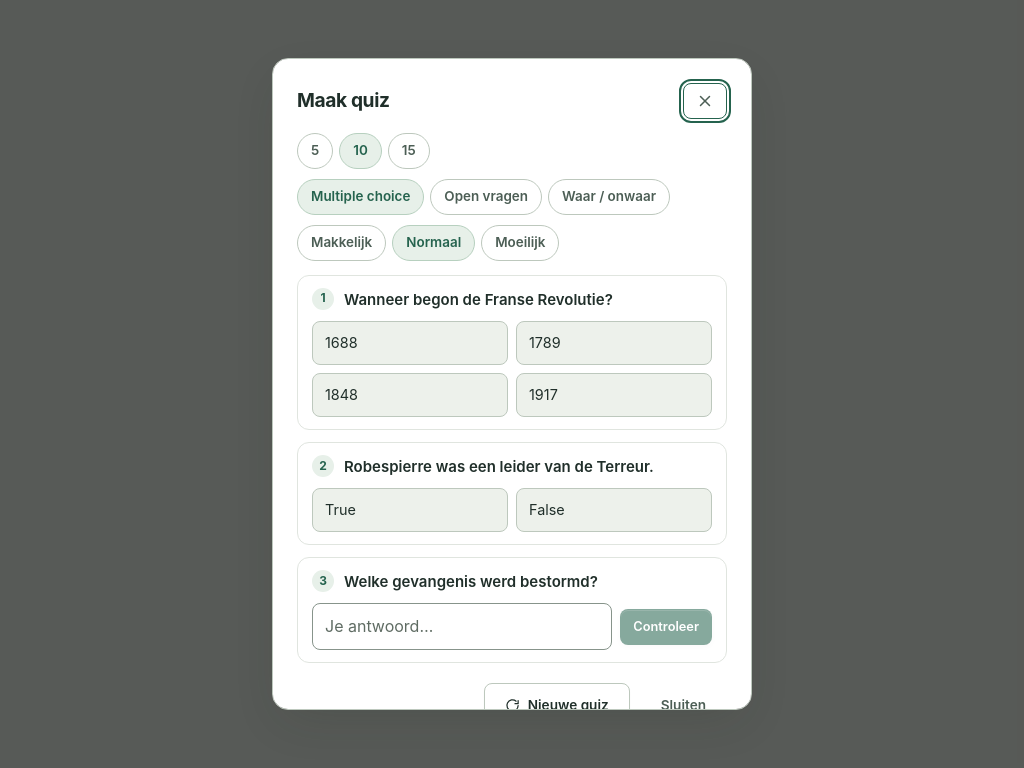
it: AiQuizModal › marks a wrong multiple choice answer
The image size is (1024, 768).
expect the text "Wanneer begon de Franse Revolutie?" is shown: met, box [344, 290, 613, 309]
Click the button "1917". click: (614,395)
box: [516, 373, 712, 417]
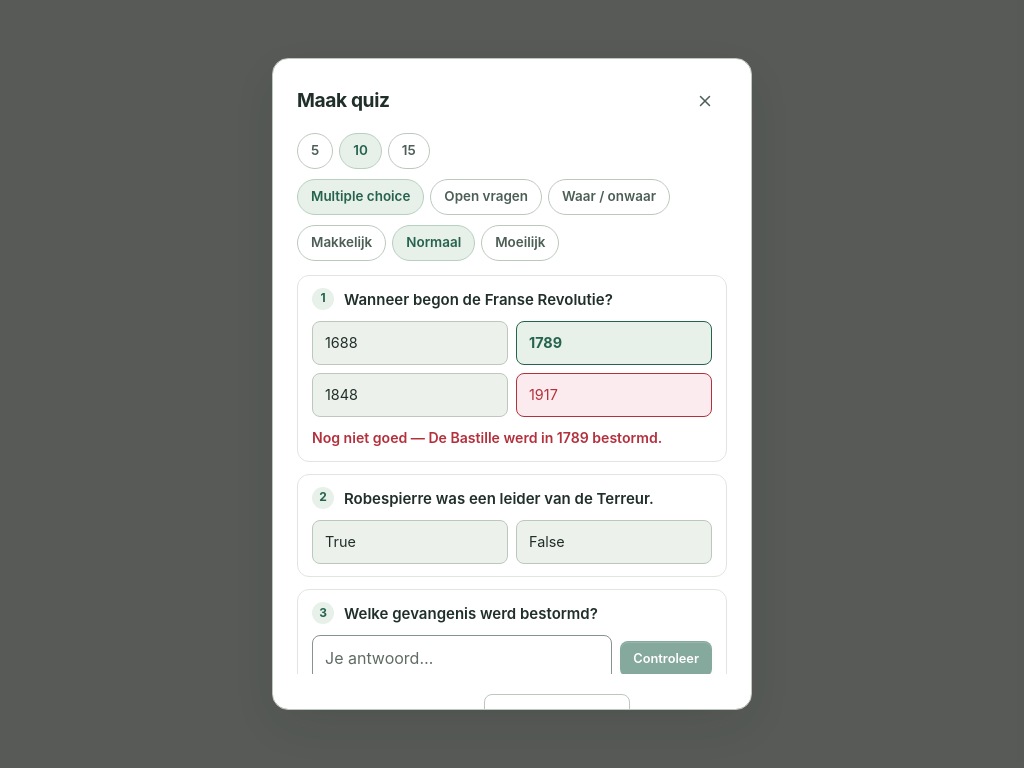
expect the text "Nog niet goed — De Bastille werd in 1789 bestormd." is shown: met, box [312, 427, 712, 449]
